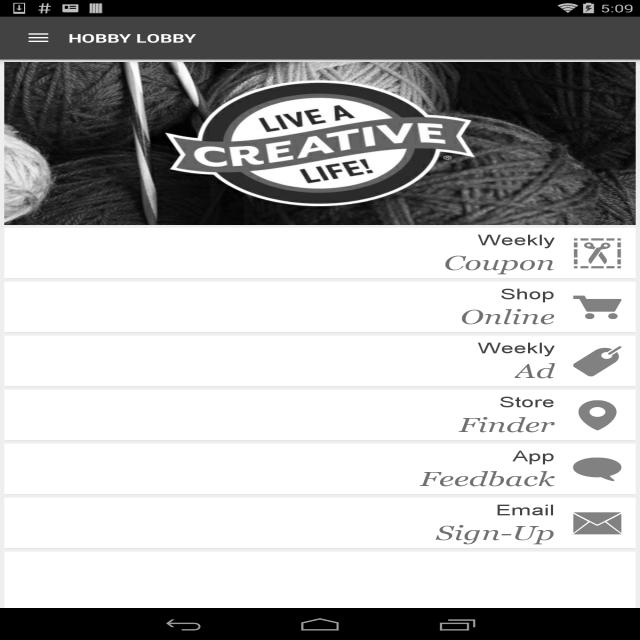ImageButton: (9, 19, 68, 57)
ImageView: (4, 62, 636, 225), (572, 399, 631, 432), (572, 238, 631, 270), (572, 292, 631, 324), (572, 346, 631, 378), (572, 454, 631, 486), (572, 508, 631, 540)
TextView: (420, 467, 554, 492), (436, 520, 554, 546), (444, 250, 554, 276), (458, 412, 554, 438), (460, 304, 555, 330), (68, 30, 196, 46), (477, 230, 555, 250), (477, 338, 555, 358), (496, 500, 554, 520), (499, 392, 555, 412), (500, 284, 555, 304), (514, 358, 554, 384), (512, 446, 554, 466)
